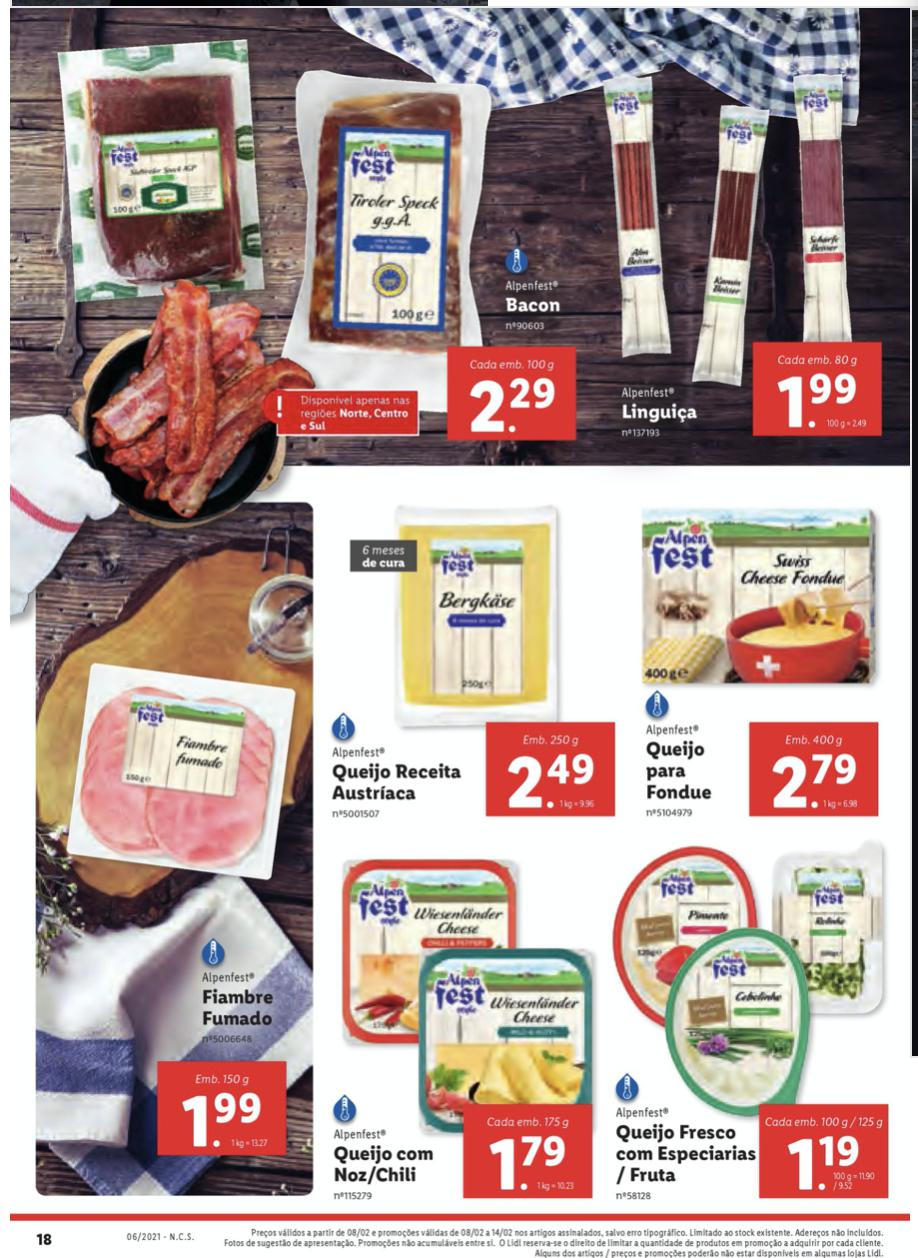name: (613, 1122, 757, 1186), (327, 761, 468, 808), (641, 736, 718, 805), (332, 1144, 440, 1186), (198, 984, 276, 1030), (616, 400, 705, 425), (498, 294, 565, 319)
price: (498, 745, 605, 815), (460, 369, 568, 437), (766, 750, 869, 814), (773, 369, 877, 431), (484, 1130, 574, 1194), (177, 1087, 268, 1150), (780, 1133, 863, 1192)
product: (248, 48, 591, 462), (579, 39, 904, 469), (55, 644, 304, 1165), (604, 847, 902, 1200), (319, 853, 607, 1212), (327, 511, 629, 830), (629, 498, 902, 830)
